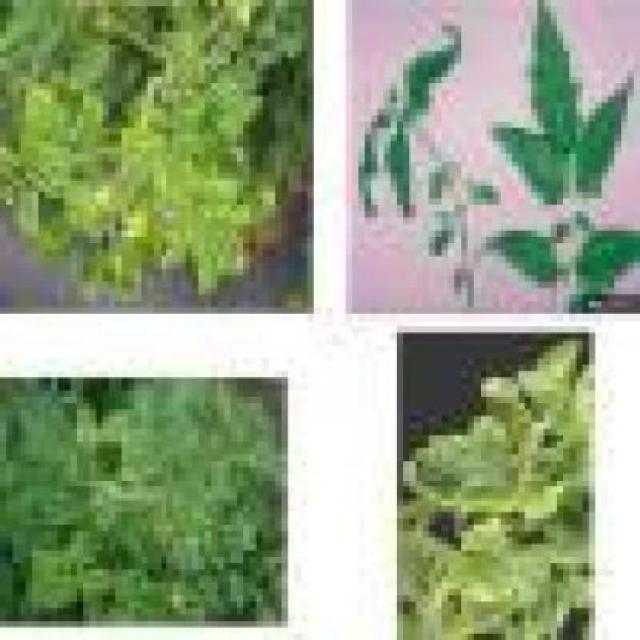Healthy Leaf: (398, 417, 552, 520), (430, 519, 570, 615), (27, 84, 72, 149), (213, 455, 258, 507), (104, 244, 149, 295), (232, 499, 270, 552), (66, 187, 104, 238), (206, 78, 250, 122), (220, 238, 264, 282), (78, 90, 110, 149), (200, 175, 244, 213), (27, 404, 66, 443), (167, 533, 206, 572), (181, 481, 226, 513), (20, 187, 40, 250), (181, 590, 213, 629), (167, 226, 193, 270), (21, 136, 53, 169), (167, 430, 187, 475), (136, 577, 169, 603), (161, 155, 187, 187), (72, 533, 90, 578), (212, 436, 244, 461), (52, 570, 72, 609), (97, 501, 117, 539), (33, 578, 52, 616), (193, 418, 212, 456), (123, 487, 149, 513), (116, 129, 141, 155), (181, 135, 206, 161), (33, 552, 52, 584), (143, 135, 167, 155), (161, 187, 179, 212), (129, 430, 149, 449), (90, 481, 110, 493)
